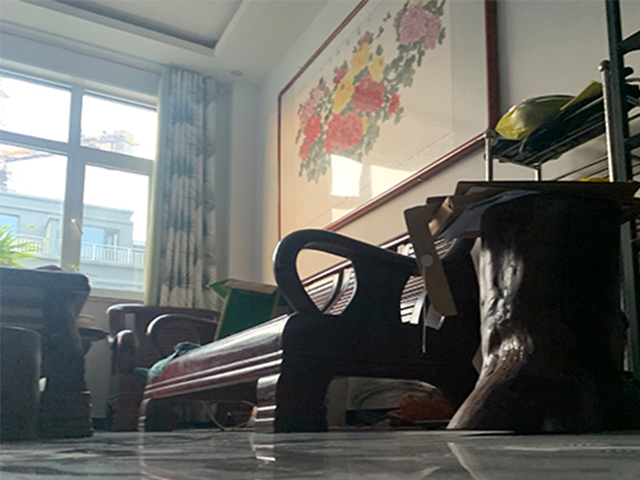curtain: (149, 63, 219, 310)
sofa: (138, 206, 481, 435)
stool: (445, 194, 640, 435)
table: (1, 265, 93, 439)
